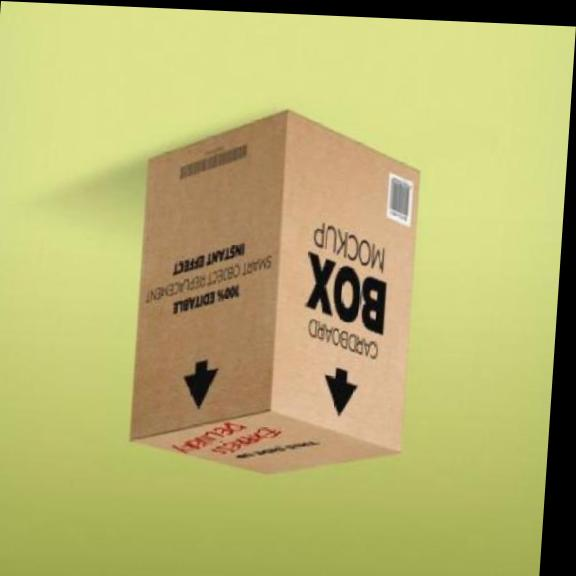Kertas: (129, 113, 419, 473)
